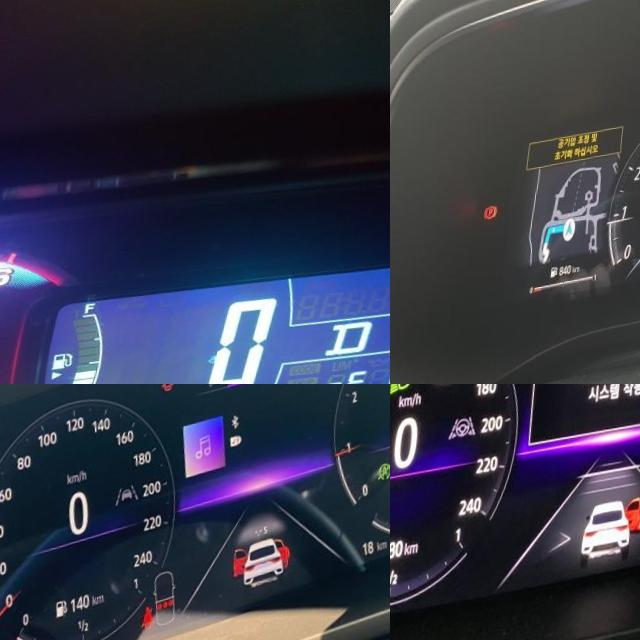Doors: (161, 384, 177, 399)
Low beam: (395, 384, 418, 397)
